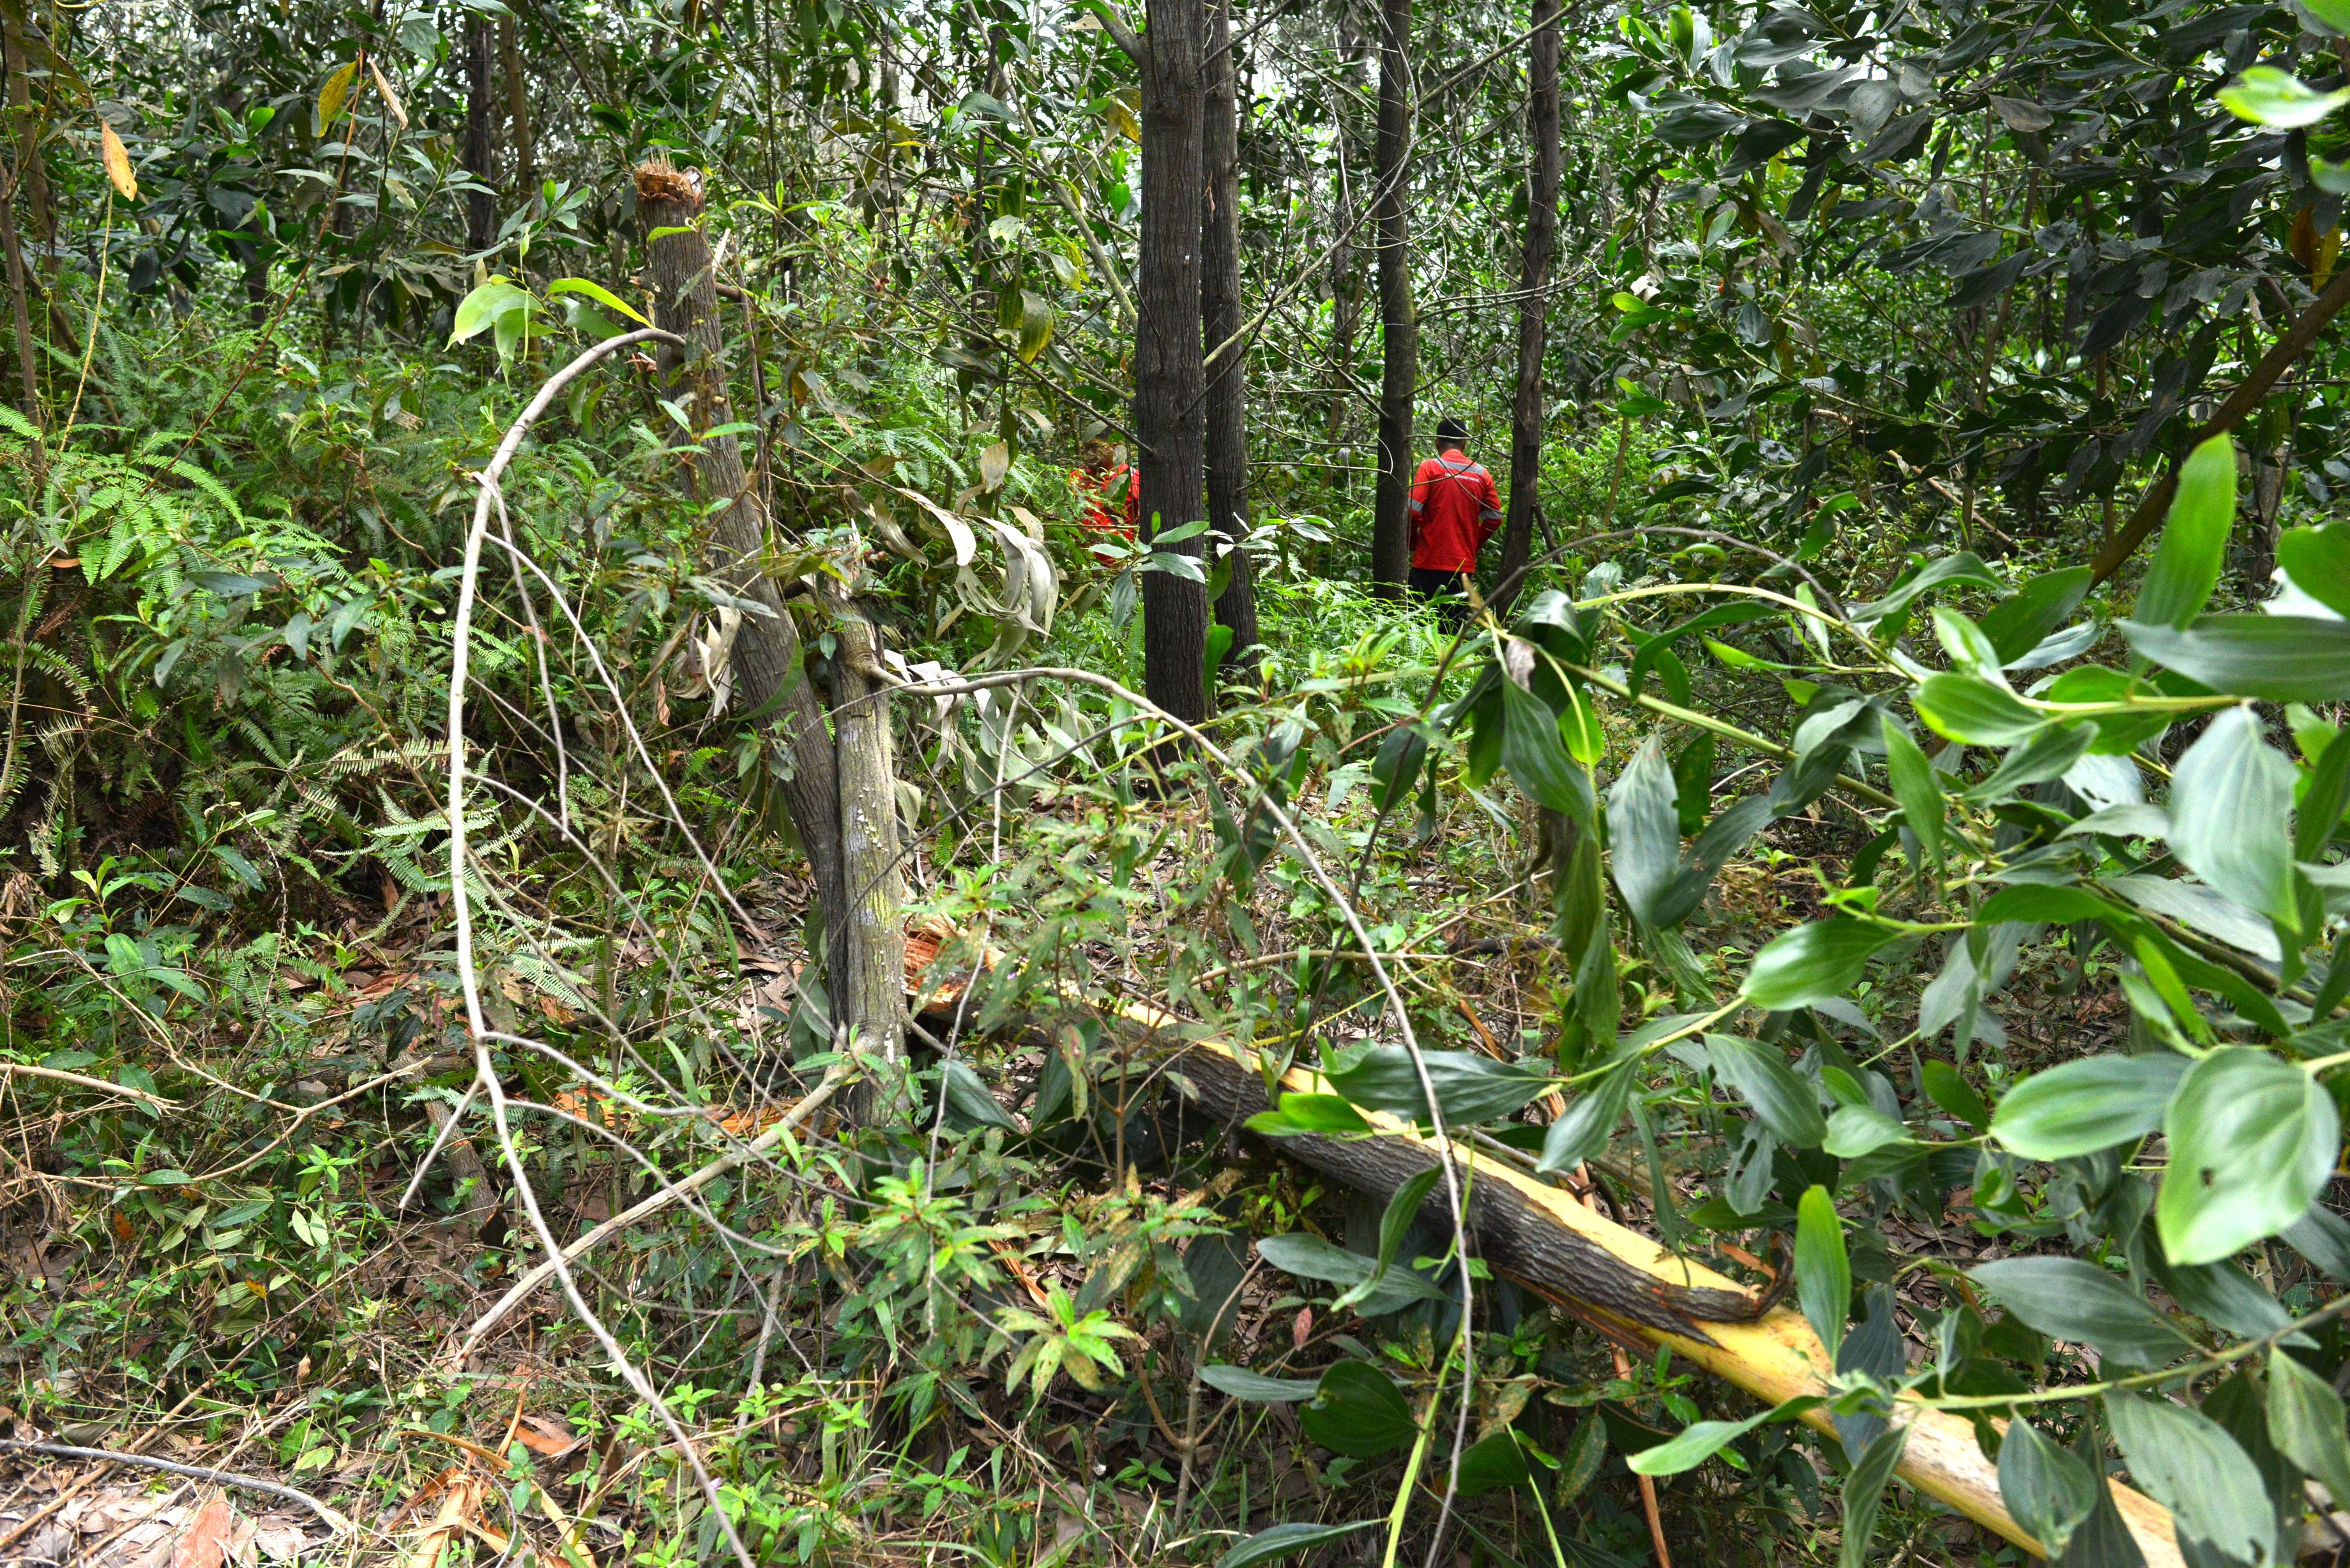Mammals Attack: (917, 905, 2350, 1568)
